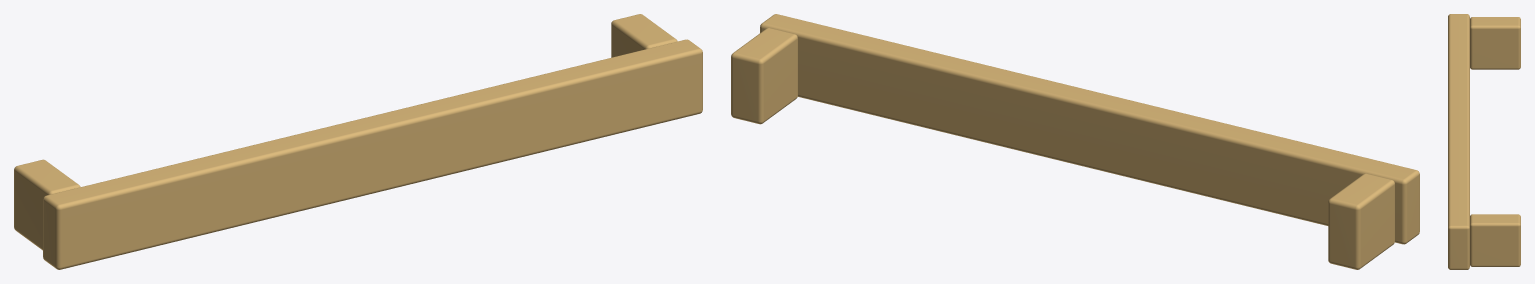
The model's file is eurofit-h-65804-192gl.glb.
3 views of the same model, side by side, from view 1: azimuth 30°, elevation 25°; view 2: azimuth 150°, elevation 25°; view 3: azimuth 270°, elevation 25° (orthographic). The views are drawn at different scales.
Parts seen in each view (by area): view 1: Rectangular grip, Mounting standoff, Mounting standoff.001; view 2: Rectangular grip, Mounting standoff, Mounting standoff.001; view 3: Rectangular grip, Mounting standoff, Mounting standoff.001.
Boxes of the visible parts, <box> form: Rectangular grip: <box>43,39,702,269</box>; Mounting standoff: <box>14,159,80,250</box>; Mounting standoff.001: <box>611,14,677,57</box>; Rectangular grip: <box>760,14,1419,244</box>; Mounting standoff: <box>1328,173,1394,269</box>; Mounting standoff.001: <box>731,28,797,124</box>; Rectangular grip: <box>1448,14,1469,269</box>; Mounting standoff: <box>1470,17,1520,69</box>; Mounting standoff.001: <box>1470,214,1520,266</box>.
Bounding box in the file's own units: 0.208 × 0.02 × 0.03.
